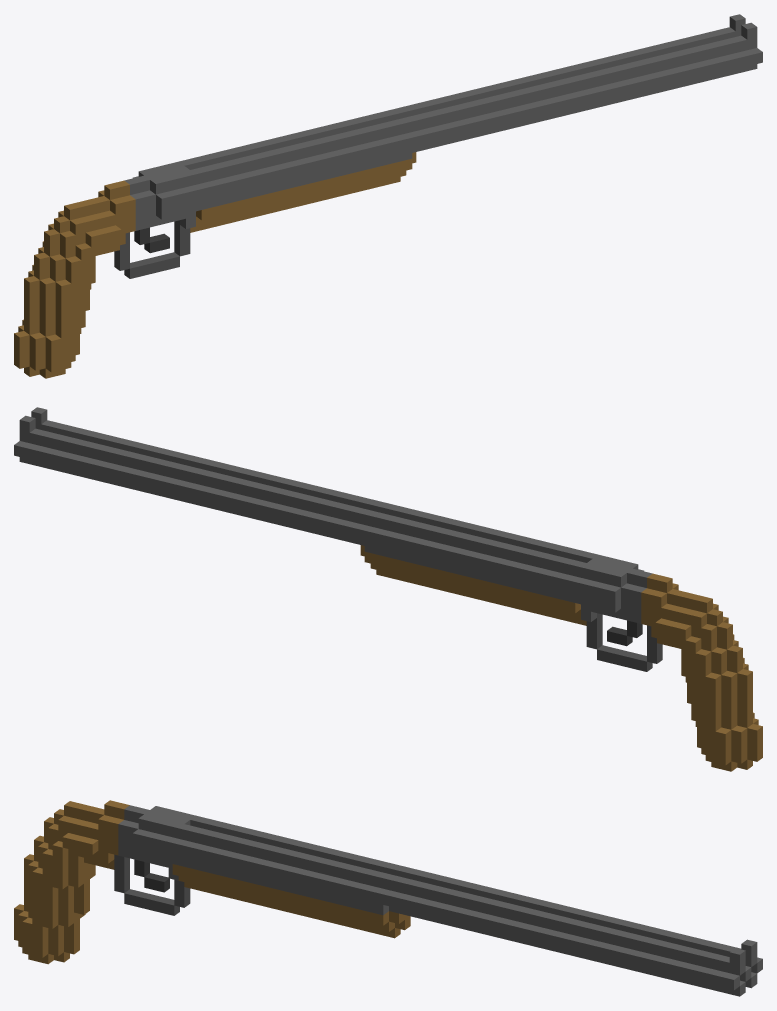
Rendered from DOOM_DoubleBarrelShotgunShort.obj.
The picture shows the model from 3 angles, top to bottom: view 1: azimuth 30°, elevation 25°; view 2: azimuth 150°, elevation 25°; view 3: azimuth 330°, elevation 25°; orthographic projection.
Size of the model in its own units: 7.3 by 1.7 by 0.5.
1 material, 1 textured.
